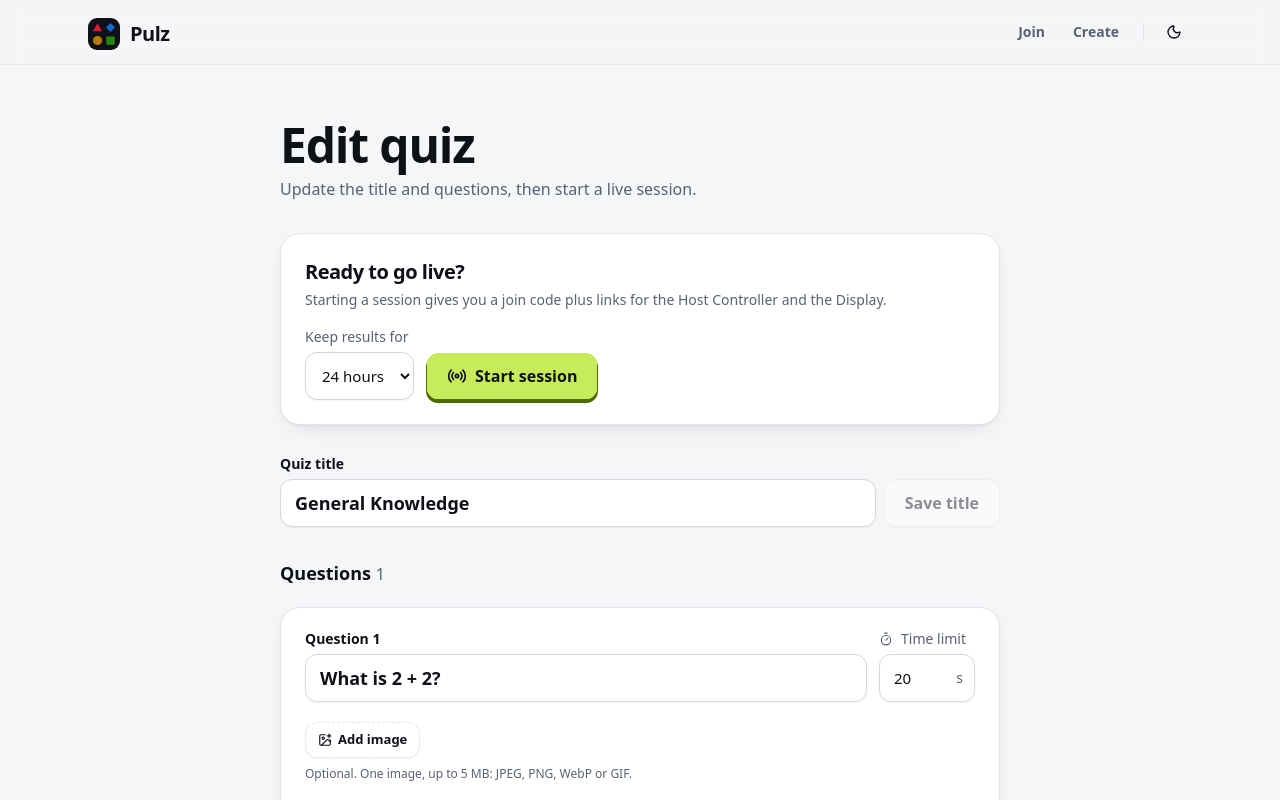
Test: EditQuizPage — start session › sends the chosen results retention and confirms it (DESIGN.md §7)
The width and height of the screenshot is (1280, 800).
Select "6 hours" in the dropdown labelled "Keep results for" at (360, 376), box [305, 352, 414, 400]
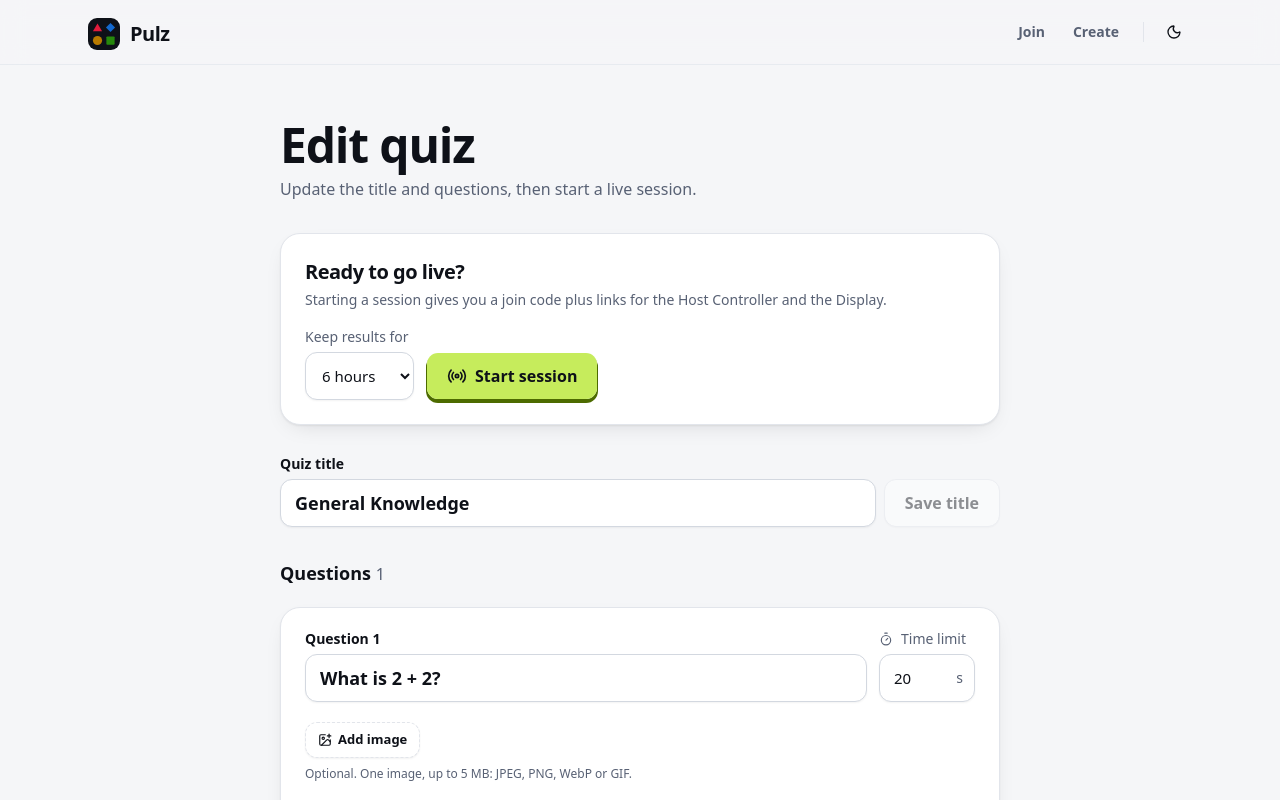
Click the button "Start session" at (512, 376), box [426, 352, 598, 400]
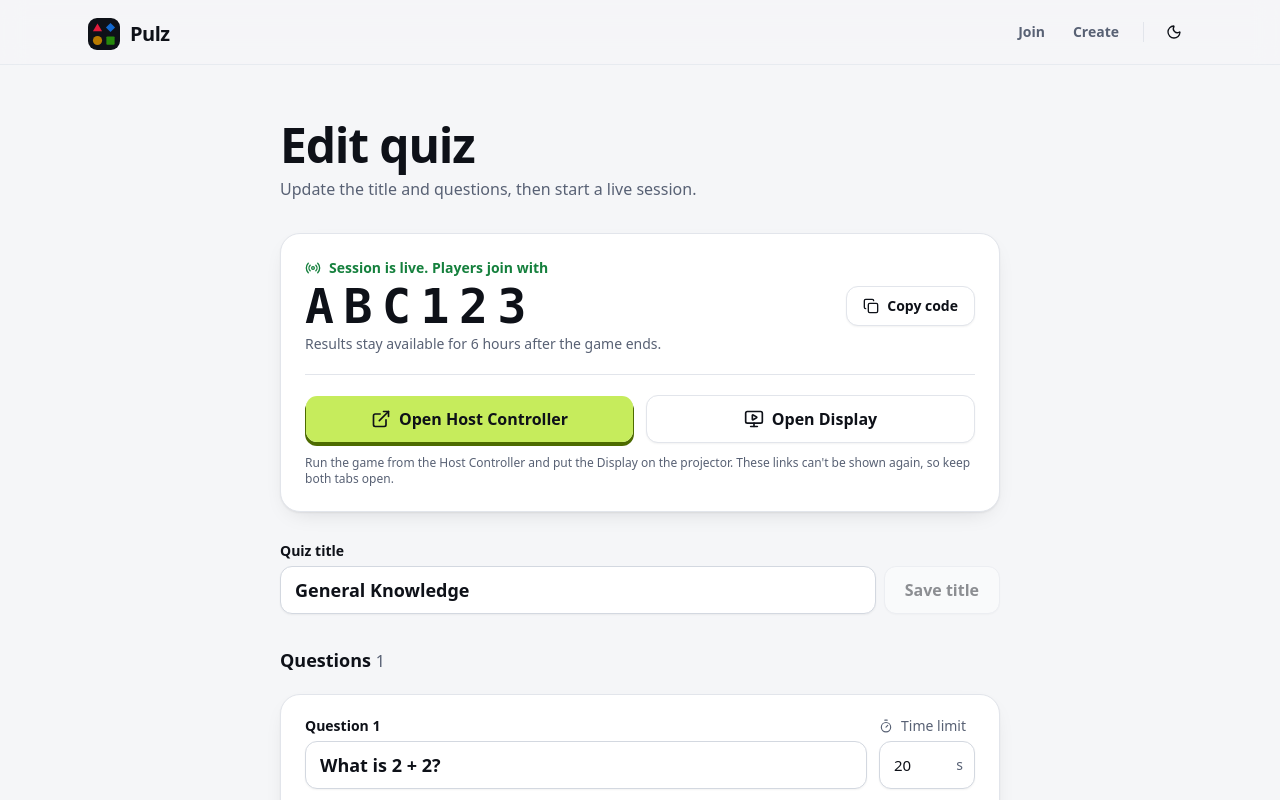
Now the text "Results stay available for 6 hours after the game ends." is shown, box [305, 334, 661, 354]
